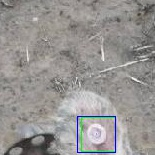text: (81, 117, 115, 151)
